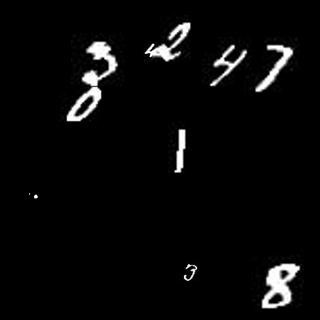dot: (33, 194, 45, 204), (23, 187, 32, 198)
eight: (261, 257, 302, 311)
four: (207, 46, 244, 86)
one: (172, 126, 190, 173)
seven: (253, 39, 294, 95)
three: (75, 40, 127, 84), (178, 256, 202, 284)
two: (158, 21, 192, 62)
zero: (62, 87, 104, 123)
